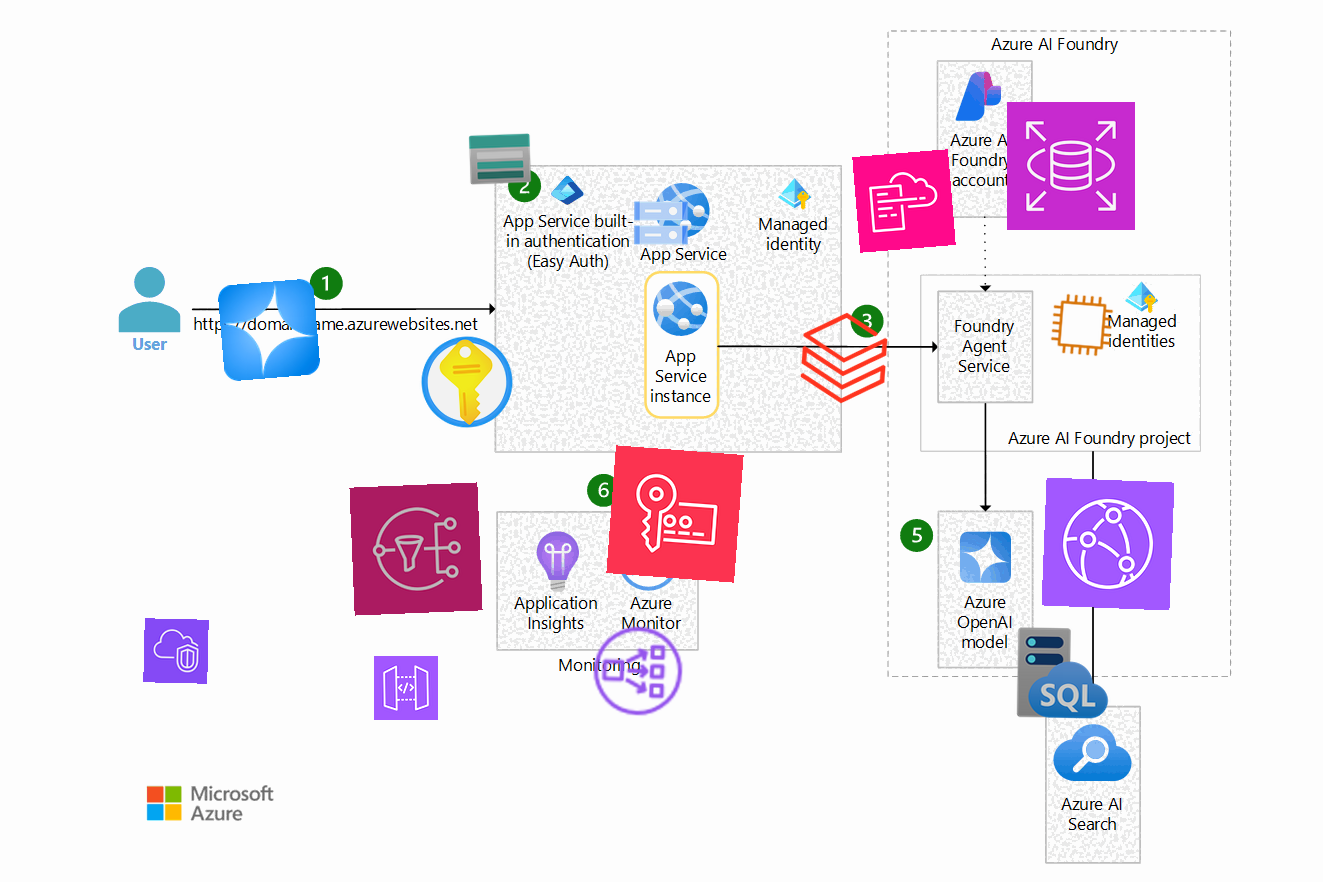aws_amazon_api_gateway: (373, 655, 439, 721)
aws_amazon_cloudfront: (1041, 477, 1175, 611)
aws_amazon_rds: (1006, 101, 1136, 231)
aws_amazon_simple_notification_service: (349, 482, 483, 616)
aws_amazon_virtual_private_cloud: (143, 618, 209, 684)
aws_cloudformation: (852, 149, 956, 253)
aws_ec2_instance: (1047, 290, 1117, 360)
aws_elastic_load_balancing_network_load_balancer: (588, 621, 688, 721)
aws_key_management_service: (606, 445, 744, 583)
azure_databricks: (792, 306, 896, 410)
azure_key_vaults: (416, 331, 518, 433)
azure_openai: (217, 278, 321, 382)
azure_sql_managed_instance: (1014, 624, 1112, 722)
azure_storage_accounts: (466, 125, 534, 193)
gcp_cloud_storage: (628, 190, 694, 256)
